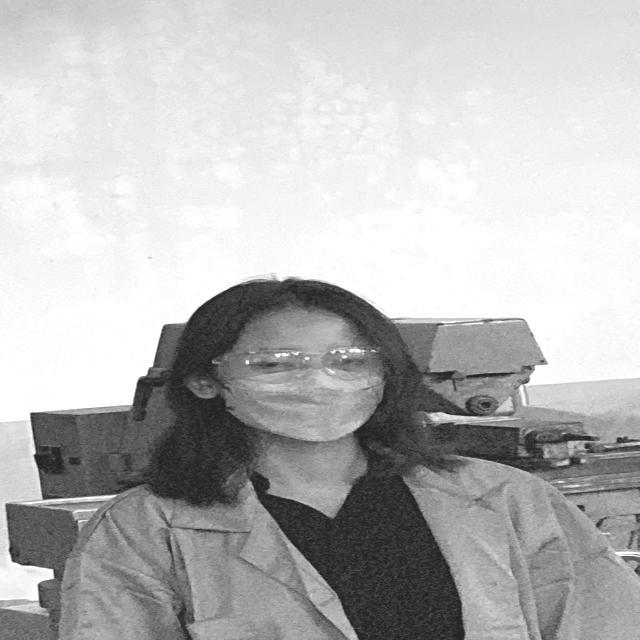face_mask: (215, 340, 389, 438)
glasses: (213, 342, 390, 383)
head_nohelmet: (196, 276, 394, 338)
